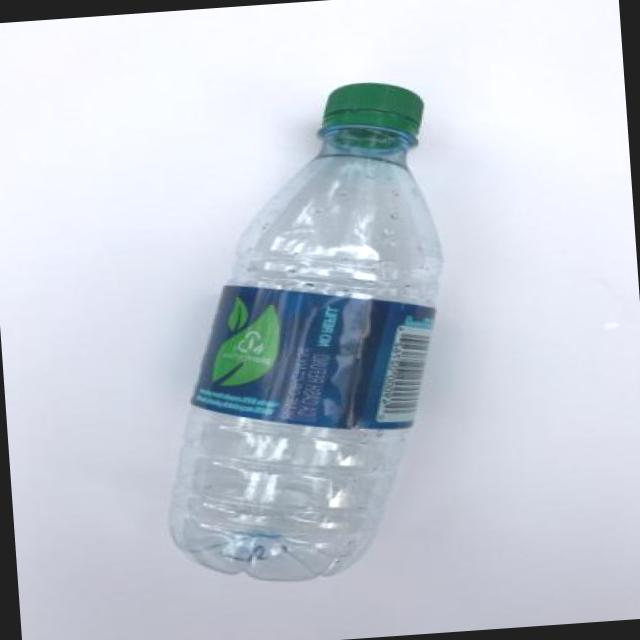bottle: (170, 84, 441, 581)
plastic: (171, 407, 407, 581), (323, 82, 422, 134)
